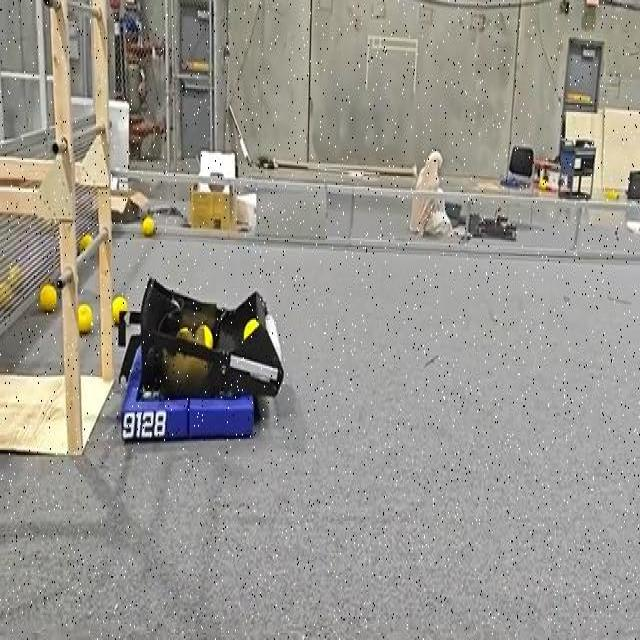Fuel: (39, 284, 57, 312), (39, 285, 57, 311), (112, 295, 127, 324), (78, 304, 92, 332), (243, 318, 260, 341), (196, 325, 213, 347), (7, 265, 21, 288), (0, 281, 12, 307), (243, 318, 258, 338), (141, 215, 154, 237), (78, 235, 93, 252)
